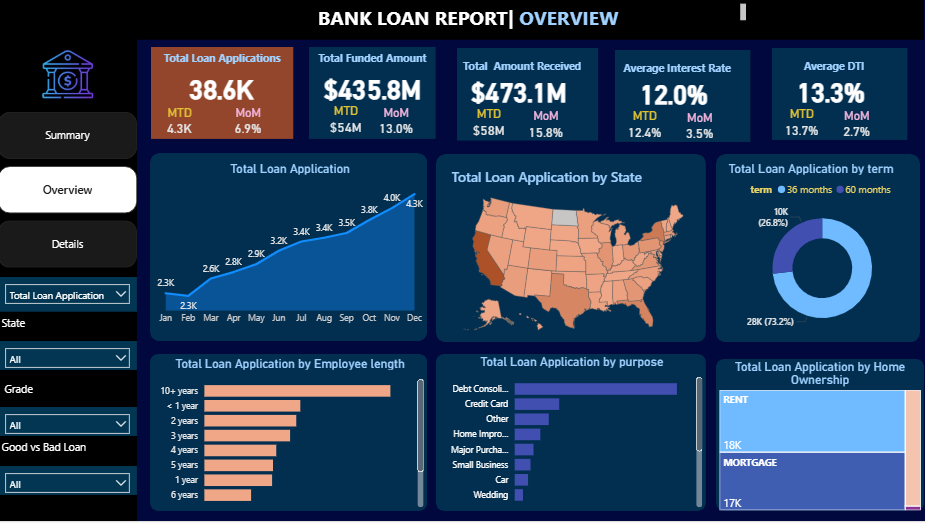

Layout of this report page (visuals, bound fields, positions):
{"tool":"powerbi","page":{"name":"Overview","canvas":[1280,720],"ordinal":1},"visuals":[{"type":"shape","box":[0,0,1279.5,54.9],"z":0},{"type":"shape","box":[210.3,65.1,196.6,127.2],"z":0,"group":"g1"},{"type":"shape","box":[430.1,65.1,174.9,127.2],"z":0,"group":"g2"},{"type":"shape","box":[634.8,66.5,195.1,127.9],"z":0,"group":"g3"},{"type":"shape","box":[1069.5,66.5,187.1,127.2],"z":0,"group":"g5"},{"type":"shape","box":[852.6,69.4,187.1,127.2],"z":0,"group":"g4"},{"type":"shape","box":[0,53.5,192.3,666.5],"z":1000},{"type":"card","fields":{"Values":["_Measures.Total Loan Application"]},"box":[209.6,85.2,196.9,69.7],"z":1000,"group":"g1"},{"type":"card","fields":{"Values":["_Measures.Total Funded Amount"]},"box":[429.4,85.2,175.2,69.7],"z":1000,"group":"g2"},{"type":"card","fields":{"Values":["_Measures.Average DTI"]},"box":[1056.9,90.3,187.4,69.7],"z":1000,"group":"g5"},{"type":"card","fields":{"Values":["_Measures.Total Amount Received"]},"box":[621.7,90.4,195.4,70.1],"z":1000,"group":"g3"},{"type":"card","fields":{"Values":["_Measures.Avg Interest Rate"]},"box":[840,93.2,187.4,69.7],"z":1000,"group":"g4"},{"type":"textbox","box":[210.3,65.1,196.6,40.5],"z":2000,"group":"g1"},{"type":"textbox","box":[430.1,65.1,174.9,40.5],"z":2000,"group":"g2"},{"type":"textbox","box":[621.7,75.9,204.8,36.3],"z":2000,"group":"g3"},{"type":"textbox","box":[1056.9,75.9,196.4,36.1],"z":2000,"group":"g5"},{"type":"textbox","box":[840,78.8,196.4,36.1],"z":2000,"group":"g4"},{"type":"shape","box":[209.6,211.1,383.1,260.2],"z":2000},{"type":"card","title":"MTD","fields":{"Values":["_Measures.MTD Total Funded Amount"]},"box":[444,141.9,71.5,50.1],"z":3000,"group":"g2"},{"type":"card","title":"MTD","fields":{"Values":["_Measures.MTD Loan Applications"]},"box":[213.6,144.6,73.1,47.7],"z":3000,"group":"g1"},{"type":"card","title":"MTD","fields":{"Values":["_Measures.MTD Average DTI"]},"box":[1072.5,146.9,76.5,50.1],"z":3000,"group":"g5"},{"type":"card","title":"MTD","fields":{"Values":["_Measures.MTD Total Amount Received"]},"box":[638,147.3,79.7,50.3],"z":3000,"group":"g3"},{"type":"card","title":"MTD","fields":{"Values":["_Measures.MTD Avg Interest Rate"]},"box":[855.6,149.8,76.5,50.1],"z":3000,"group":"g4"},{"type":"textbox","box":[0,430.8,79.5,40.5],"z":3000},{"type":"textbox","box":[436.2,0,602.5,44.7],"z":4000},{"type":"card","title":"MoM","fields":{"Values":["_Measures.MoM Loan Application"]},"box":[307.8,144.6,74.8,47.7],"z":4000,"group":"g1"},{"type":"card","title":"MoM","fields":{"Values":["_Measures.MoM Total Funded Amount"]},"box":[516.8,144.6,66.5,47.7],"z":4000,"group":"g2"},{"type":"card","title":"MoM","fields":{"Values":["_Measures.MoM Avg DTI"]},"box":[1150.4,149.6,71.1,47.7],"z":4000,"group":"g5"},{"type":"card","title":"MoM","fields":{"Values":["_Measures.MoM Total Amount Received"]},"box":[719.2,150.1,74.2,48],"z":4000,"group":"g3"},{"type":"card","title":"MoM","fields":{"Values":["_Measures.MoM Avg Interest Rate"]},"box":[933.5,152.5,71.1,47.7],"z":4000,"group":"g4"},{"type":"group","id":"g1","title":"Group 1","box":[209.6,65.1,196.6,127.2],"z":5000},{"type":"group","id":"g2","title":"Group 1","box":[429.4,65.1,176.4,127.2],"z":6000},{"type":"group","id":"g3","title":"Group 1","box":[621.7,66.5,208.2,131.6],"z":7000},{"type":"group","id":"g4","title":"Group 1","box":[840,69.4,199.5,130.1],"z":8000},{"type":"group","id":"g5","title":"Group 1","box":[1056.9,66.5,199.5,130.1],"z":9000},{"type":"slicer","fields":{"Values":["bank_loan_data.address_state"]},"box":[0,471.3,192.3,40.5],"z":10000},{"type":"slicer","fields":{"Values":["bank_loan_data.grade"]},"box":[0,562.4,192.3,40.5],"z":11000},{"type":"textbox","box":[0,521.9,79.5,40.5],"z":12000},{"type":"textbox","box":[0,602.9,167.7,40.5],"z":13000},{"type":"slicer","fields":{"Values":["bank_loan_data.Good vs Bad Loan"]},"box":[0,643.4,192.3,40.5],"z":14000},{"type":"slicer","fields":{"Values":["Select Measure.Select Measure"]},"box":[0,383.1,192.3,47.7],"z":15000},{"type":"textbox","box":[0,342.7,143.1,40.5],"z":16000},{"type":"areaChart","fields":{"Category":["Date Table.Month_Name"],"Y":["_Measures.Total Loan Application"]},"box":[214,222.7,378.8,235.7],"z":17000},{"type":"shape","box":[605.8,212.5,373,260.2],"z":18000},{"type":"shapeMap","fields":{"Category":["bank_loan_data.address_state"],"Value":["_Measures.Total Loan Application"]},"box":[621.7,232.8,347,240],"z":19000},{"type":"shape","box":[991.8,212.5,281.9,260.2],"z":20000},{"type":"donutChart","fields":{"Category":["bank_loan_data.term"],"Y":["_Measures.Total Loan Application"]},"box":[1004.8,222.7,268.9,248.7],"z":21000},{"type":"shape","box":[209.6,488.7,383.1,216.9],"z":22000},{"type":"barChart","fields":{"Category":["bank_loan_data.emp_length"],"Y":["_Measures.Total Loan Application"]},"box":[214,491.6,378.8,214],"z":23000},{"type":"shape","box":[605.8,488.7,373,216.9],"z":24000},{"type":"shape","box":[991.8,495.9,287.7,209.6],"z":25000},{"type":"treemap","fields":{"Group":["bank_loan_data.home_ownership"],"Values":["_Measures.Total Loan Application"]},"box":[991.8,495.9,287.7,214],"z":26000},{"type":"image","box":[0,44.8,193.7,120],"z":27000},{"type":"pageNavigator","box":[0,154.7,192.3,215.4],"z":28000},{"type":"barChart","fields":{"Category":["bank_loan_data.purpose"],"Y":["_Measures.Total Loan Application"]},"box":[608.7,488.7,370.1,216.9],"z":29000}]}

Visuals, with their boxes in screenshot pixels (x1, y1, x2, y2), scaled from the page's 1280x720 canvas onto the 925x523 screenshot:
shape: bbox=(0, 0, 924, 40)
shape: bbox=(152, 47, 294, 140)
shape: bbox=(311, 47, 437, 140)
shape: bbox=(459, 48, 600, 141)
shape: bbox=(773, 48, 908, 141)
shape: bbox=(616, 50, 751, 143)
shape: bbox=(0, 39, 139, 522)
card - _Measures.Total Loan Application: bbox=(151, 62, 294, 113)
card - _Measures.Total Funded Amount: bbox=(310, 62, 437, 113)
card - _Measures.Average DTI: bbox=(764, 66, 899, 116)
card - _Measures.Total Amount Received: bbox=(449, 66, 590, 117)
card - _Measures.Avg Interest Rate: bbox=(607, 68, 742, 118)
textbox: bbox=(152, 47, 294, 77)
textbox: bbox=(311, 47, 437, 77)
textbox: bbox=(449, 55, 597, 82)
textbox: bbox=(764, 55, 906, 81)
textbox: bbox=(607, 57, 749, 83)
shape: bbox=(151, 153, 428, 342)
"MTD" card: bbox=(321, 103, 373, 139)
"MTD" card: bbox=(154, 105, 207, 140)
"MTD" card: bbox=(775, 107, 830, 143)
"MTD" card: bbox=(461, 107, 519, 144)
"MTD" card: bbox=(618, 109, 674, 145)
textbox: bbox=(0, 313, 57, 342)
textbox: bbox=(315, 0, 751, 32)
"MoM" card: bbox=(222, 105, 276, 140)
"MoM" card: bbox=(373, 105, 422, 140)
"MoM" card: bbox=(831, 109, 883, 143)
"MoM" card: bbox=(520, 109, 573, 144)
"MoM" card: bbox=(675, 111, 726, 145)
"Group 1" group: bbox=(151, 47, 294, 140)
"Group 1" group: bbox=(310, 47, 438, 140)
"Group 1" group: bbox=(449, 48, 600, 144)
"Group 1" group: bbox=(607, 50, 751, 145)
"Group 1" group: bbox=(764, 48, 908, 143)
slicer - bank_loan_data.address_state: bbox=(0, 342, 139, 372)
slicer - bank_loan_data.grade: bbox=(0, 409, 139, 438)
textbox: bbox=(0, 379, 57, 409)
textbox: bbox=(0, 438, 121, 467)
slicer - bank_loan_data.Good vs Bad Loan: bbox=(0, 467, 139, 497)
slicer - Select Measure.Select Measure: bbox=(0, 278, 139, 313)
textbox: bbox=(0, 249, 103, 278)
areaChart - Date Table.Month_Name x _Measures.Total Loan Application: bbox=(155, 162, 428, 333)
shape: bbox=(438, 154, 707, 343)
shapeMap - bank_loan_data.address_state x _Measures.Total Loan Application: bbox=(449, 169, 700, 343)
shape: bbox=(717, 154, 920, 343)
donutChart - bank_loan_data.term x _Measures.Total Loan Application: bbox=(726, 162, 920, 342)
shape: bbox=(151, 355, 428, 513)
barChart - bank_loan_data.emp_length x _Measures.Total Loan Application: bbox=(155, 357, 428, 513)
shape: bbox=(438, 355, 707, 513)
shape: bbox=(717, 360, 924, 512)
treemap - bank_loan_data.home_ownership x _Measures.Total Loan Application: bbox=(717, 360, 924, 516)
image: bbox=(0, 33, 140, 120)
pageNavigator: bbox=(0, 112, 139, 269)
barChart - bank_loan_data.purpose x _Measures.Total Loan Application: bbox=(440, 355, 707, 513)
